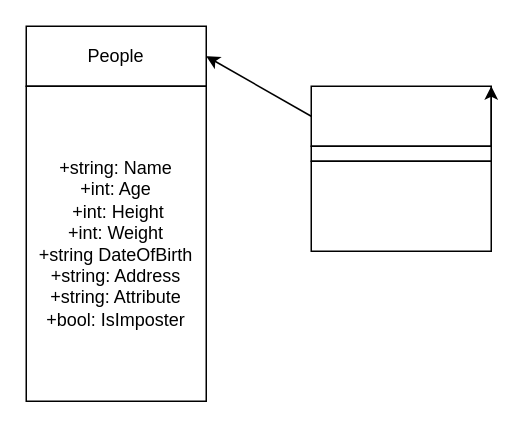
This 530x428 diagram has some shape labels left out. The shapes that lost their labels are listed below. From the top down, each one's centre as x and y in pixels, then its label:
At [400,115]: "Imposter".
At [400,205]: "+Imposter()".
